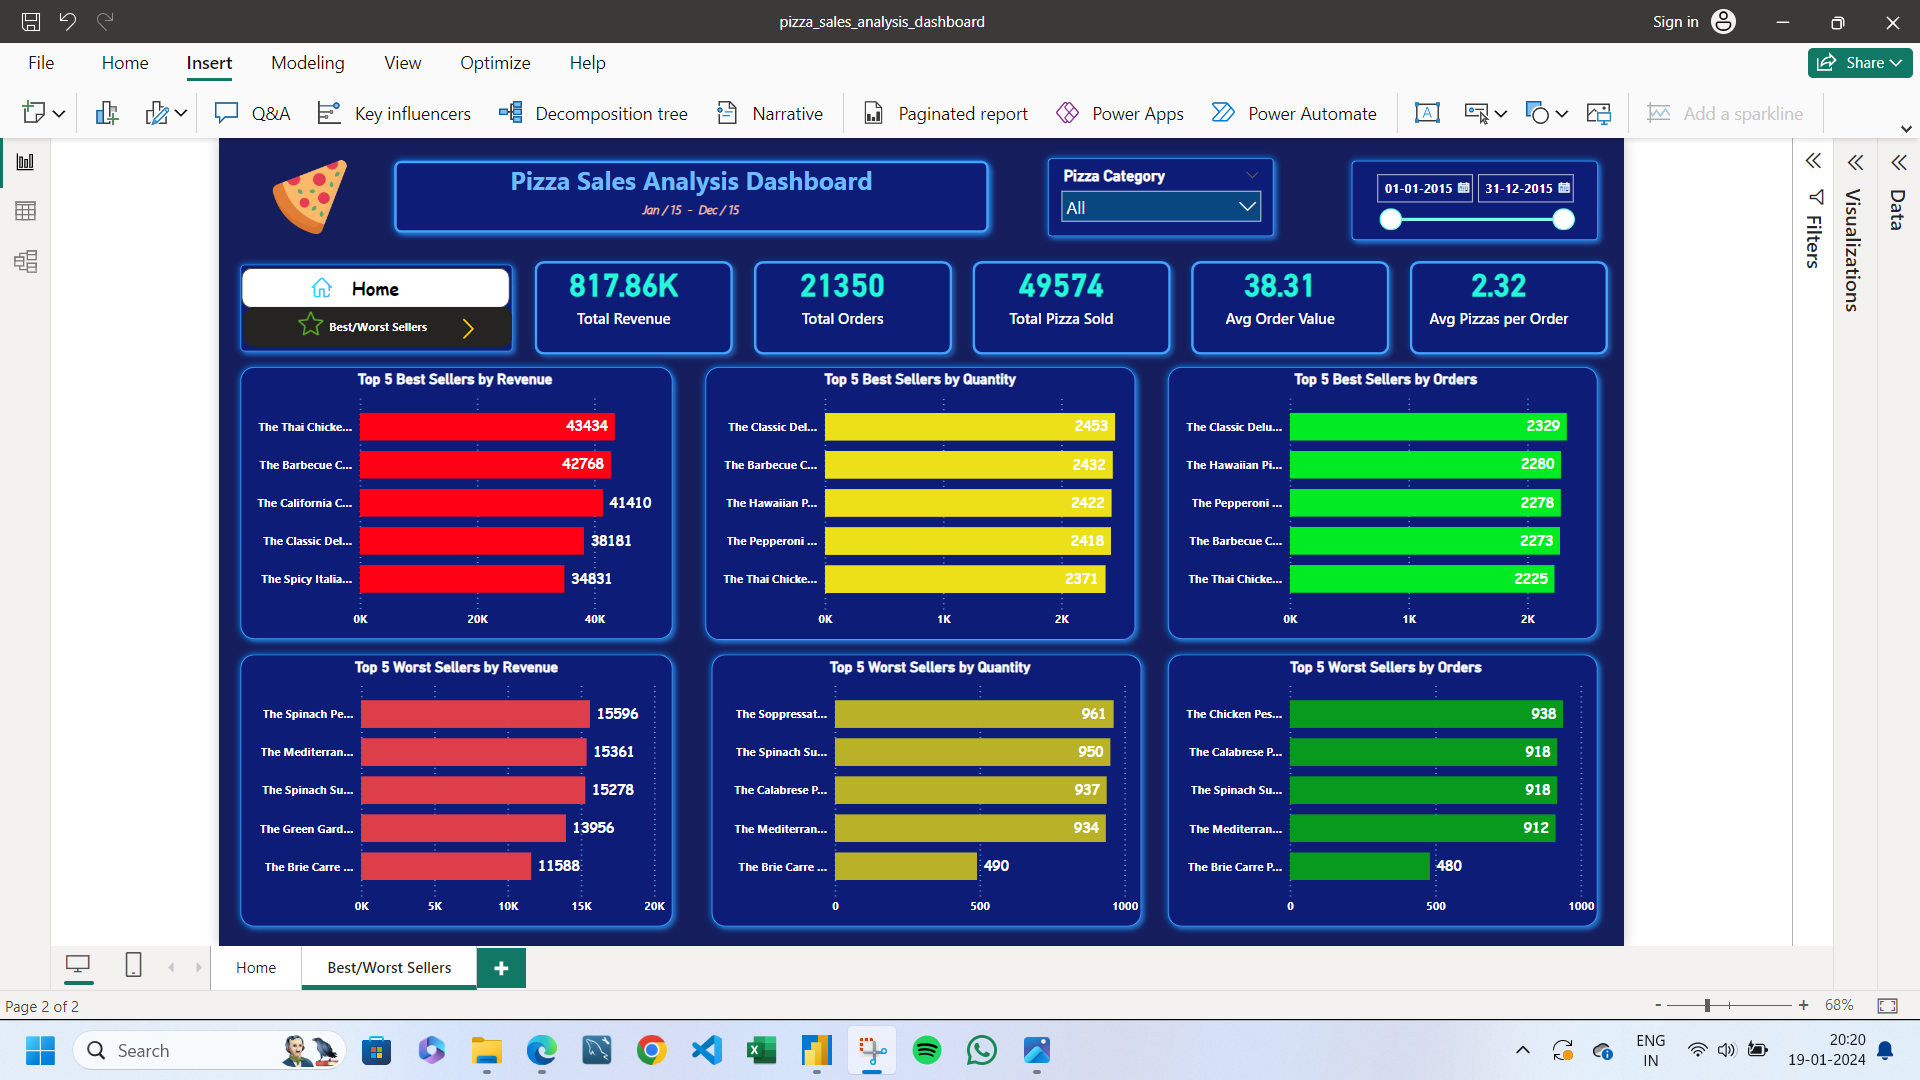

What the dashboard file says about the page in this screenshot:
{"tool":"powerbi","page":{"name":"Best/Worst Sellers","canvas":[1650,950],"ordinal":1},"visuals":[{"type":"shape","box":[16.2,139.5,337.7,120.4],"z":0},{"type":"shape","box":[196.8,17.6,716.5,102.8],"z":1000},{"type":"image","box":[16.2,19.1,180.6,101.3],"z":2000},{"type":"textbox","box":[474.3,69,160,32.3],"z":3000},{"type":"cardVisual","fields":{"Data":["Pizza_Sales_Data.Total Revenue","Pizza_Sales_Data.Total Orders","Pizza_Sales_Data.Total Pizza Sold","Pizza_Sales_Data.Avg Order Value","Pizza_Sales_Data.Avg Pizzas per Order"]},"box":[353.3,127.3,1296.9,144.8],"z":4000},{"type":"shape","box":[16.2,597.6,525.7,337.7],"z":7000},{"type":"shape","box":[569.7,597.6,522.7,337.7],"z":11000},{"type":"shape","box":[1105.6,597.6,522.7,337.7],"z":12000},{"type":"shape","box":[964.3,14.3,283.2,109.8],"z":15000},{"type":"shape","box":[1320.8,17.5,307.1,111.4],"z":16000},{"type":"slicer","fields":{"Values":["Pizza_Sales_Data.pizza_category"]},"box":[978.6,28.6,254.6,89.1],"z":17000},{"type":"slicer","fields":{"Values":["Pizza_Sales_Data.order_date"]},"box":[1347.9,32.3,252.6,86.6],"z":18000},{"type":"shape","box":[16.2,259.9,525.7,337.7],"z":18001},{"type":"shape","box":[562.1,259.3,523.1,338.8],"z":18002},{"type":"shape","box":[1105.6,259.9,522.7,337.7],"z":18003},{"type":"barChart","title":"Top 5 Best Sellers by Revenue","fields":{"Category":["Pizza_Sales_Data.pizza_name"],"Y":["Pizza_Sales_Data.Total Revenue"]},"box":[27.9,273.1,499.2,311.3],"z":18004},{"type":"barChart","title":"Top 5 Worst Sellers by Revenue","fields":{"Category":["Pizza_Sales_Data.pizza_name"],"Y":["Pizza_Sales_Data.Total Revenue"]},"box":[29.4,610.8,499.2,311.3],"z":18005},{"type":"barChart","title":"Top 5 Best Sellers by Quantity","fields":{"Category":["Pizza_Sales_Data.pizza_name"],"Y":["Pizza_Sales_Data.Total Pizza Sold"]},"box":[574.1,272.8,499.1,311.8],"z":18006},{"type":"barChart","title":"Top 5 Worst Sellers by Quantity","fields":{"Category":["Pizza_Sales_Data.pizza_name"],"Y":["Pizza_Sales_Data.Total Pizza Sold"]},"box":[585.9,610.8,499.2,311.3],"z":18007},{"type":"barChart","title":"Top 5 Best Sellers by Orders","fields":{"Category":["Pizza_Sales_Data.pizza_name"],"Y":["Pizza_Sales_Data.Total Orders"]},"box":[1120.3,273.1,500.7,311.3],"z":18008},{"type":"barChart","title":"Top 5 Worst Sellers by Orders","fields":{"Category":["Pizza_Sales_Data.pizza_name"],"Y":["Pizza_Sales_Data.Total Orders"]},"box":[1120.3,610.8,500.7,311.3],"z":18009},{"type":"pageNavigator","box":[27.1,152.8,315.1,47.7],"z":18010},{"type":"pageNavigator","box":[28.6,198.9,315.1,47.7],"z":18011},{"type":"image","box":[265.7,206.9,54.1,33.4],"z":18012},{"type":"image","box":[89.1,159.1,62.1,33.4],"z":18013},{"type":"image","box":[86.6,198.2,42.6,39.6],"z":18014}]}

Visuals, with their boxes on the page's 1650x950 design canvas (x1, y1, x2, y2). These are canvas units, not pixel positions in the 1920x1080 screenshot, which may show the page scaled, cropped or inside an application window:
shape: pyautogui.locateOnScreen(16, 140, 354, 260)
shape: pyautogui.locateOnScreen(197, 18, 913, 120)
image: pyautogui.locateOnScreen(16, 19, 197, 120)
textbox: pyautogui.locateOnScreen(474, 69, 634, 101)
cardVisual - Pizza_Sales_Data.Total Revenue x Pizza_Sales_Data.Total Orders: pyautogui.locateOnScreen(353, 127, 1650, 272)
shape: pyautogui.locateOnScreen(16, 598, 542, 935)
shape: pyautogui.locateOnScreen(570, 598, 1092, 935)
shape: pyautogui.locateOnScreen(1106, 598, 1628, 935)
shape: pyautogui.locateOnScreen(964, 14, 1248, 124)
shape: pyautogui.locateOnScreen(1321, 18, 1628, 129)
slicer - Pizza_Sales_Data.pizza_category: pyautogui.locateOnScreen(979, 29, 1233, 118)
slicer - Pizza_Sales_Data.order_date: pyautogui.locateOnScreen(1348, 32, 1600, 119)
shape: pyautogui.locateOnScreen(16, 260, 542, 598)
shape: pyautogui.locateOnScreen(562, 259, 1085, 598)
shape: pyautogui.locateOnScreen(1106, 260, 1628, 598)
"Top 5 Best Sellers by Revenue" barChart: pyautogui.locateOnScreen(28, 273, 527, 584)
"Top 5 Worst Sellers by Revenue" barChart: pyautogui.locateOnScreen(29, 611, 529, 922)
"Top 5 Best Sellers by Quantity" barChart: pyautogui.locateOnScreen(574, 273, 1073, 585)
"Top 5 Worst Sellers by Quantity" barChart: pyautogui.locateOnScreen(586, 611, 1085, 922)
"Top 5 Best Sellers by Orders" barChart: pyautogui.locateOnScreen(1120, 273, 1621, 584)
"Top 5 Worst Sellers by Orders" barChart: pyautogui.locateOnScreen(1120, 611, 1621, 922)
pageNavigator: pyautogui.locateOnScreen(27, 153, 342, 200)
pageNavigator: pyautogui.locateOnScreen(29, 199, 344, 247)
image: pyautogui.locateOnScreen(266, 207, 320, 240)
image: pyautogui.locateOnScreen(89, 159, 151, 192)
image: pyautogui.locateOnScreen(87, 198, 129, 238)
